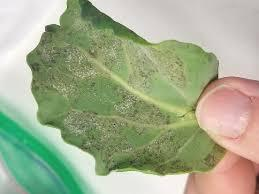Bok-Choy-Diseased: (46, 25, 198, 170)
